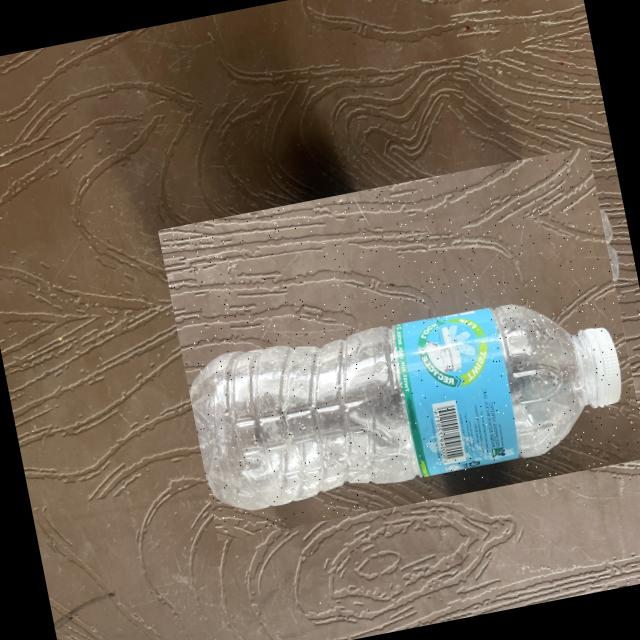REJECT: (157, 146, 640, 541)
